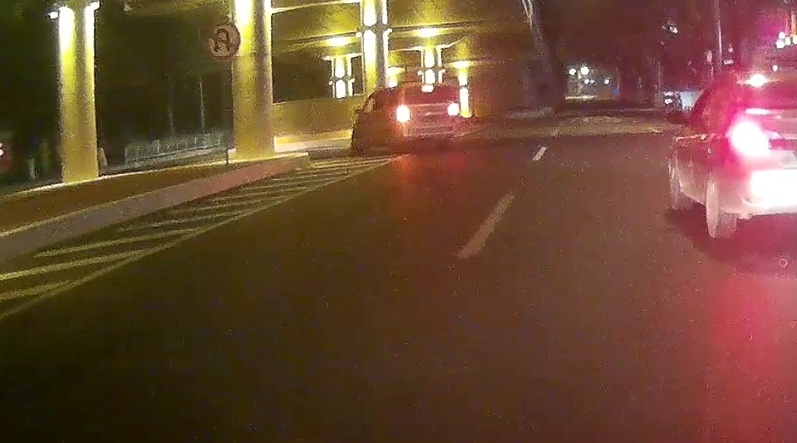L_light: (396, 105, 409, 122)
R_light: (447, 103, 459, 116)
T_light: (421, 85, 434, 92)
night-left: (395, 83, 459, 153)
